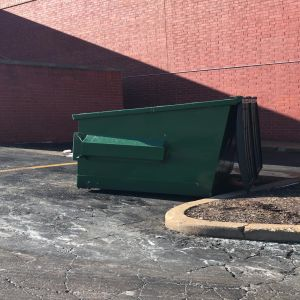Dumpster: (71, 94, 265, 200)
